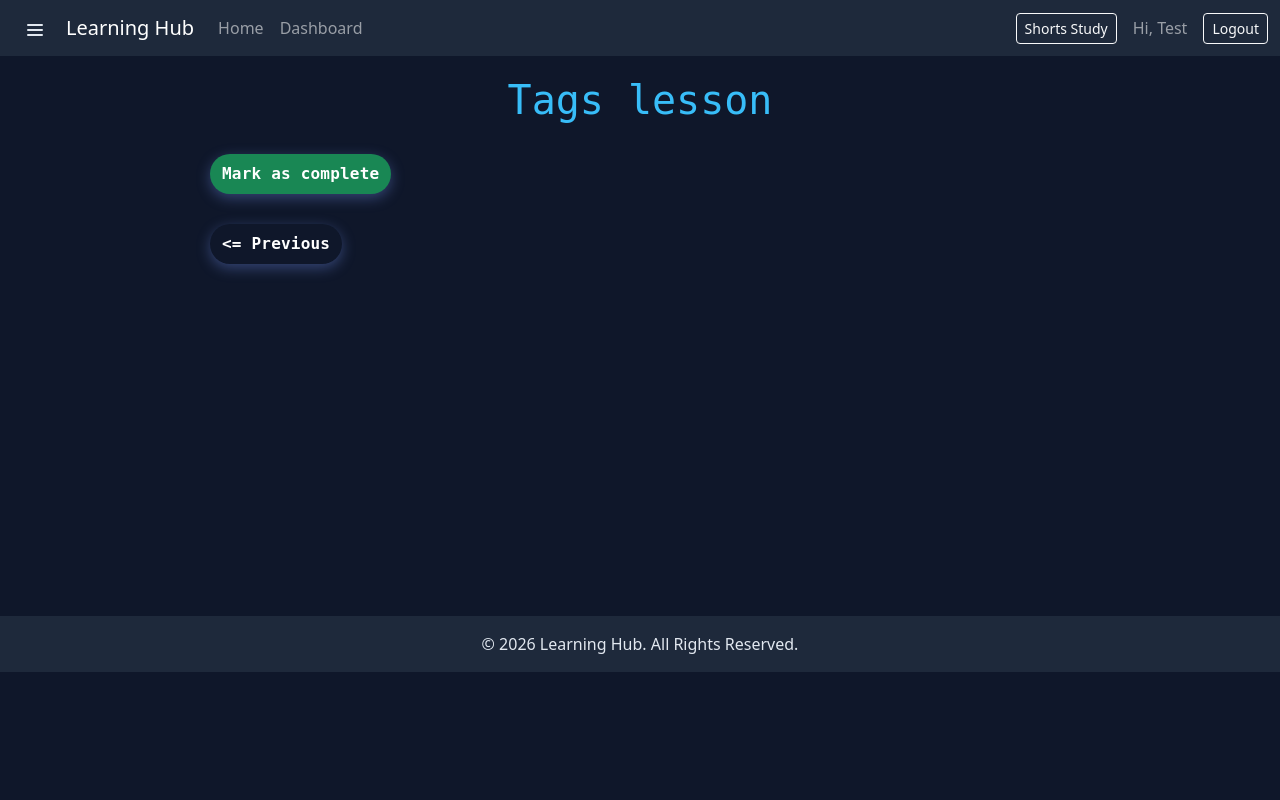
Test: progress in the lesson pages › Mark as complete saves with the local day, shows the reward and updates the sidebar
Click the button "Mark as complete".
click(301, 174)  # box [210,154,391,194]
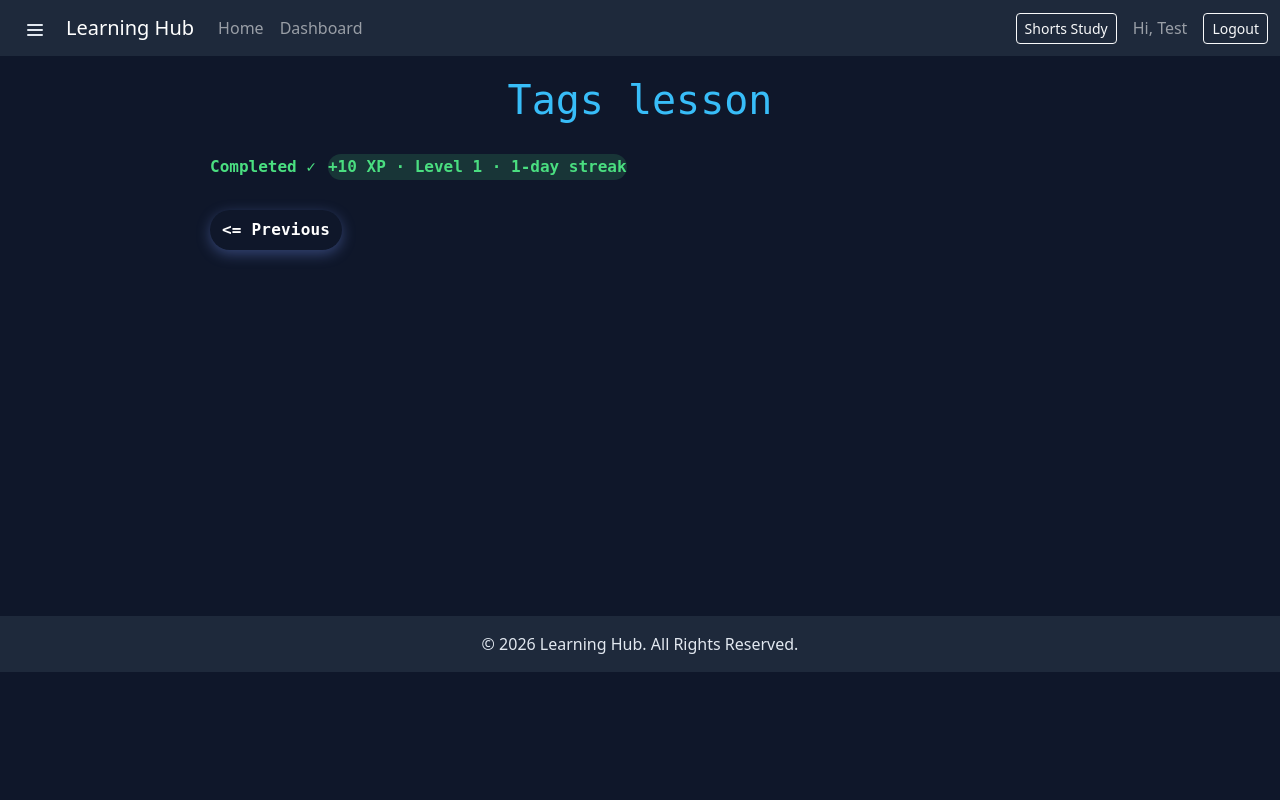
Now the message shows "+10 XP", box [328,154,627,180]
Now the text "Completed ✓" is shown, box [210,154,316,180]
Now the button "Mark as complete" is gone
